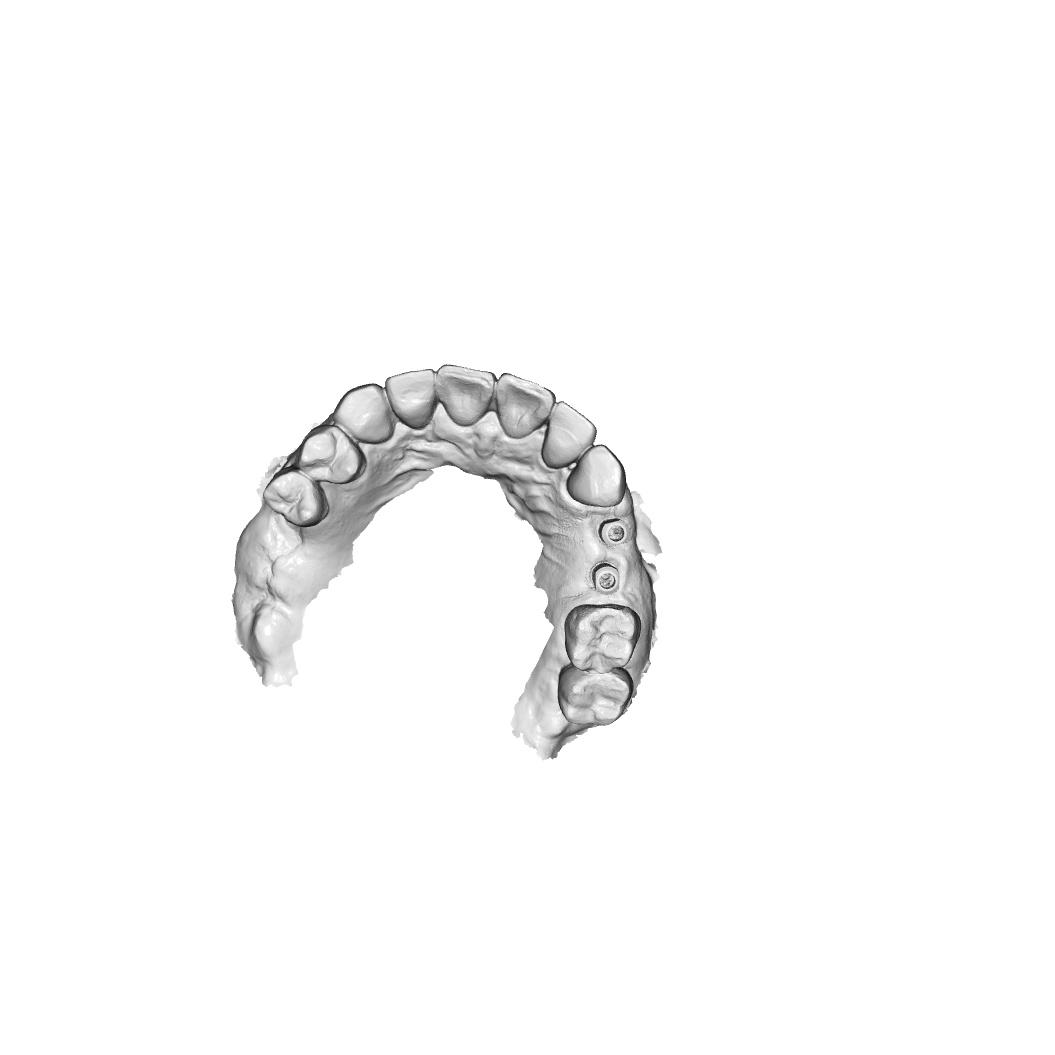canine: (566, 442, 628, 509), (331, 382, 396, 445)
implant: (596, 517, 631, 548), (591, 561, 621, 596)
incisor: (495, 372, 557, 439), (541, 400, 598, 471), (437, 362, 496, 428), (384, 368, 437, 432)
molar: (564, 603, 642, 674), (555, 663, 635, 727)
premolar: (296, 424, 368, 486), (263, 464, 330, 528)
